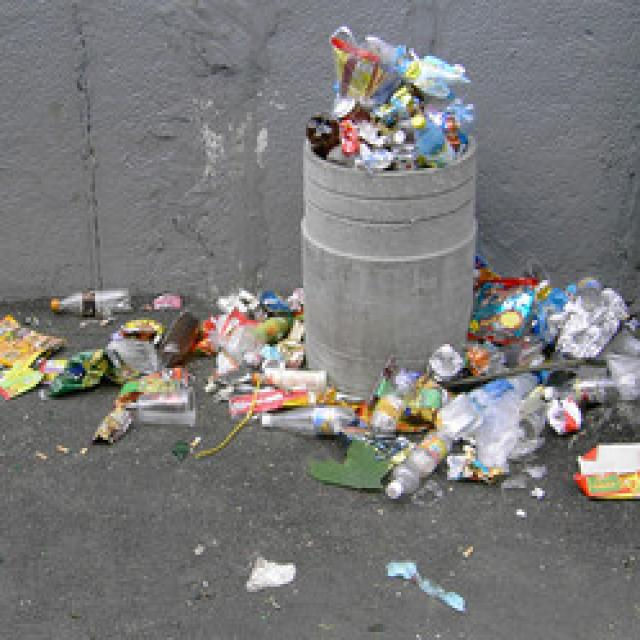plastic: (380, 421, 452, 499), (44, 280, 134, 317)
trash: (332, 34, 460, 170), (486, 277, 622, 368)
